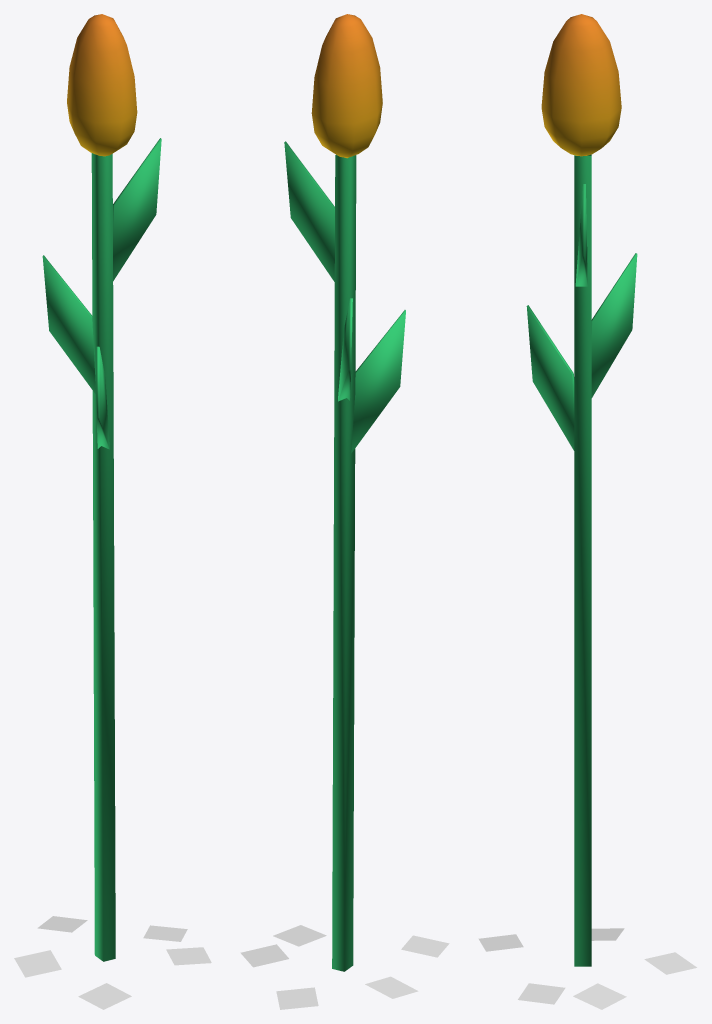
Rendered from sorghum.glb.
3 renders of one model, left to right at view 1: azimuth 30°, elevation 25°; view 2: azimuth 150°, elevation 25°; view 3: azimuth 270°, elevation 25°, orthographic.
Parts seen in each view (by area): view 1: sorghum, sorghum_copy, sorghum_copy.003, sorghum_copy.001, sorghum_copy.004, sorghum_copy.002; view 2: sorghum, sorghum_copy.002, sorghum_copy.004, sorghum_copy.003, sorghum_copy, sorghum_copy.001; view 3: sorghum, sorghum_copy.004, sorghum_copy.001, sorghum_copy.002, sorghum_copy.003.
Boxes of the visible parts, x1,y1,x2,y2 form: sorghum: (42, 14, 161, 961); sorghum_copy: (14, 950, 61, 977); sorghum_copy.003: (78, 983, 131, 1009); sorghum_copy.001: (166, 947, 211, 965); sorghum_copy.004: (143, 925, 187, 941); sorghum_copy.002: (37, 916, 87, 932); sorghum: (284, 14, 405, 971); sorghum_copy.002: (276, 987, 318, 1009); sorghum_copy.004: (240, 944, 288, 967); sorghum_copy.003: (401, 935, 449, 957); sorghum_copy: (365, 976, 418, 998); sorghum_copy.001: (273, 925, 326, 946); sorghum: (526, 14, 637, 966); sorghum_copy.004: (573, 983, 626, 1009); sorghum_copy.001: (518, 983, 565, 1004); sorghum_copy.002: (644, 952, 696, 974); sorghum_copy.003: (478, 934, 523, 951).
Size of the model in its own units: 0.1287 by 0.6869 by 0.1434.
1 material, 1 textured.
